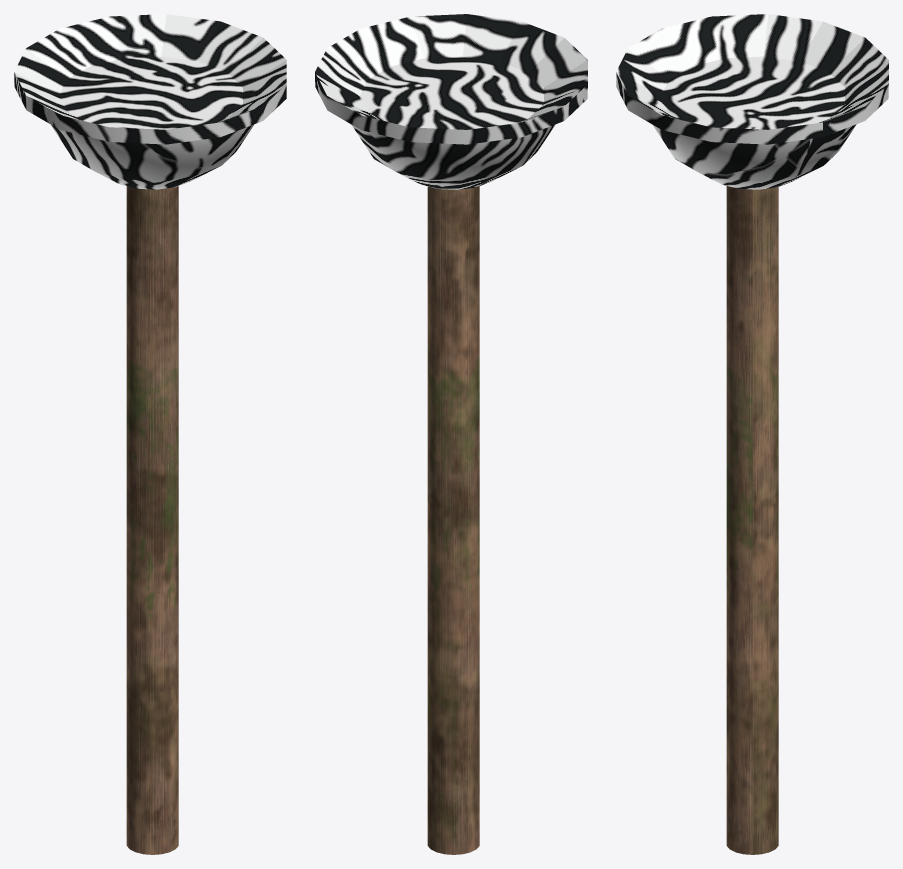
The model's file is Desatascador_zebra.FBX.
3 renders of one model, left to right at view 1: azimuth 30°, elevation 25°; view 2: azimuth 150°, elevation 25°; view 3: azimuth 270°, elevation 25°, orthographic.
Visible parts, largest first — view 1: Desatascador, Palo; view 2: Desatascador, Palo; view 3: Desatascador, Palo.
Part boxes in pixels (box(x1,y1,x2,y2)): Desatascador: box(14, 14, 286, 189); Palo: box(126, 186, 178, 854); Desatascador: box(315, 14, 587, 189); Palo: box(427, 186, 479, 854); Desatascador: box(616, 14, 888, 189); Palo: box(726, 186, 778, 854).
Bounding box in the file's own units: 0.8388 × 2.6 × 0.8342.
Materials: 2 (2 with a texture image).
